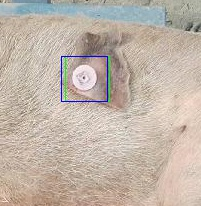text: (65, 56, 109, 101)
